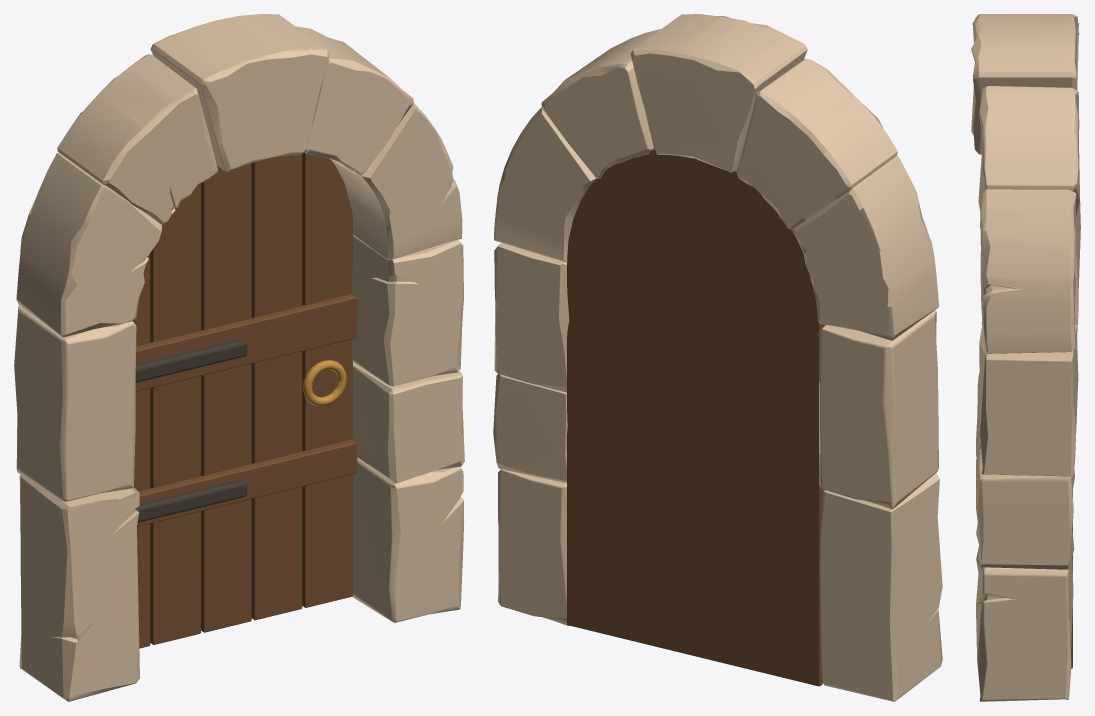
The model's file is door.glb.
The picture shows the model from 3 angles, left to right: view 1: azimuth 30°, elevation 25°; view 2: azimuth 150°, elevation 25°; view 3: azimuth 270°, elevation 25°; orthographic projection. The views are drawn at different scales.
Parts seen in each view (by area): view 1: door, stones.002, stones.026, stones.032, stones.024, stones.010, stones.040, stones.004, stones.041, stones.038, stones.028, Door_strap.010 (+2 smaller); view 2: door, stones.002, stones.026, stones.024, stones.032, stones.010, stones.041, stones.040, stones.004, stones.028, stones.038; view 3: stones.041, stones.040, stones.004, stones.028, stones.038, stones.032, stones.026, stones.002.
Boxes of the visible parts, x1=… form: door: x1=133, y1=152, x2=357, y2=648; stones.002: x1=19, y1=475, x2=139, y2=701; stones.026: x1=14, y1=305, x2=136, y2=501; stones.032: x1=150, y1=14, x2=329, y2=172; stones.024: x1=16, y1=152, x2=162, y2=337; stones.010: x1=57, y1=54, x2=217, y2=225; stones.040: x1=352, y1=457, x2=464, y2=622; stones.004: x1=351, y1=234, x2=463, y2=386; stones.041: x1=332, y1=103, x2=462, y2=259; stones.038: x1=352, y1=363, x2=464, y2=483; stones.028: x1=295, y1=26, x2=413, y2=174; Door_strap.010: x1=135, y1=339, x2=247, y2=382; door: x1=567, y1=148, x2=825, y2=686; stones.002: x1=819, y1=473, x2=942, y2=701; stones.026: x1=818, y1=310, x2=938, y2=509; stones.024: x1=793, y1=156, x2=938, y2=340; stones.032: x1=630, y1=14, x2=807, y2=172; stones.010: x1=737, y1=59, x2=897, y2=229; stones.041: x1=494, y1=107, x2=596, y2=262; stones.040: x1=498, y1=469, x2=568, y2=625; stones.004: x1=494, y1=243, x2=569, y2=392; stones.028: x1=541, y1=29, x2=660, y2=178; stones.038: x1=493, y1=374, x2=567, y2=482; stones.041: x1=979, y1=189, x2=1076, y2=353; stones.040: x1=976, y1=545, x2=1073, y2=701; stones.004: x1=979, y1=324, x2=1078, y2=476; stones.028: x1=978, y1=86, x2=1079, y2=216; stones.038: x1=976, y1=449, x2=1074, y2=569; stones.032: x1=971, y1=14, x2=1077, y2=154; stones.026: x1=980, y1=202, x2=1080, y2=338; stones.002: x1=976, y1=372, x2=980, y2=521.
Size of the model in its own units: 1.74 by 2.49 by 0.4289.
